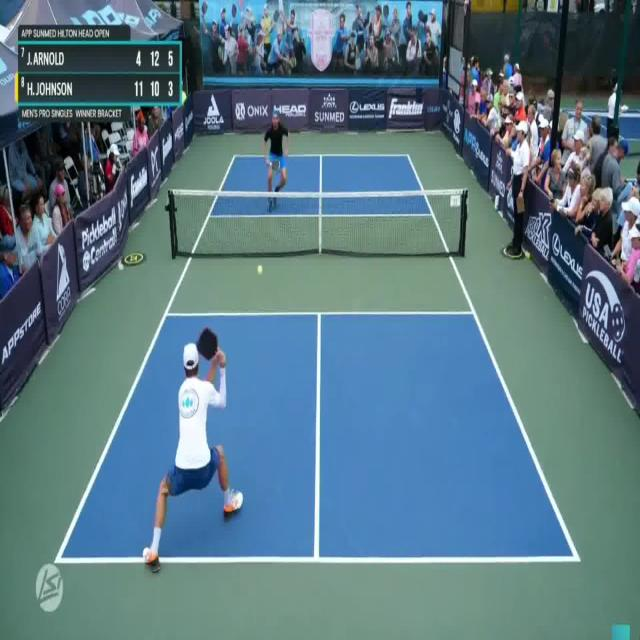Court: (60, 154, 578, 562)
ball: (255, 260, 267, 280)
